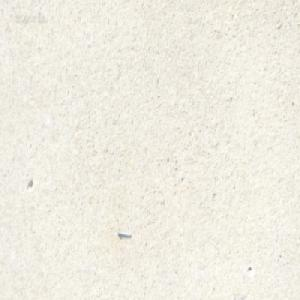Nail: (116, 227, 131, 237)
